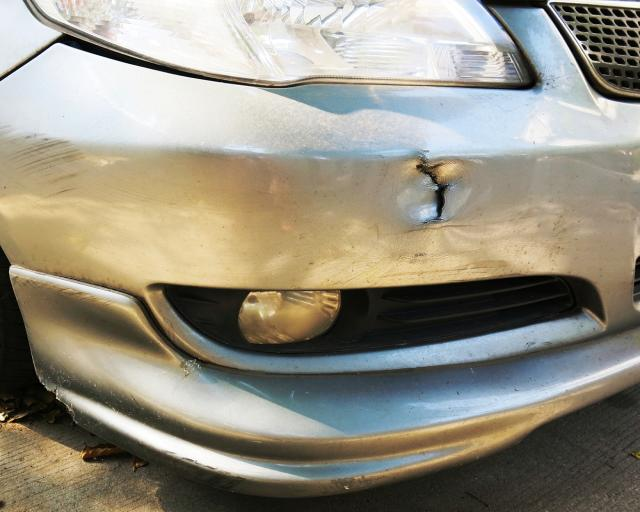crack: (415, 152, 451, 223)
scratch: (165, 447, 381, 493), (2, 126, 87, 202)
